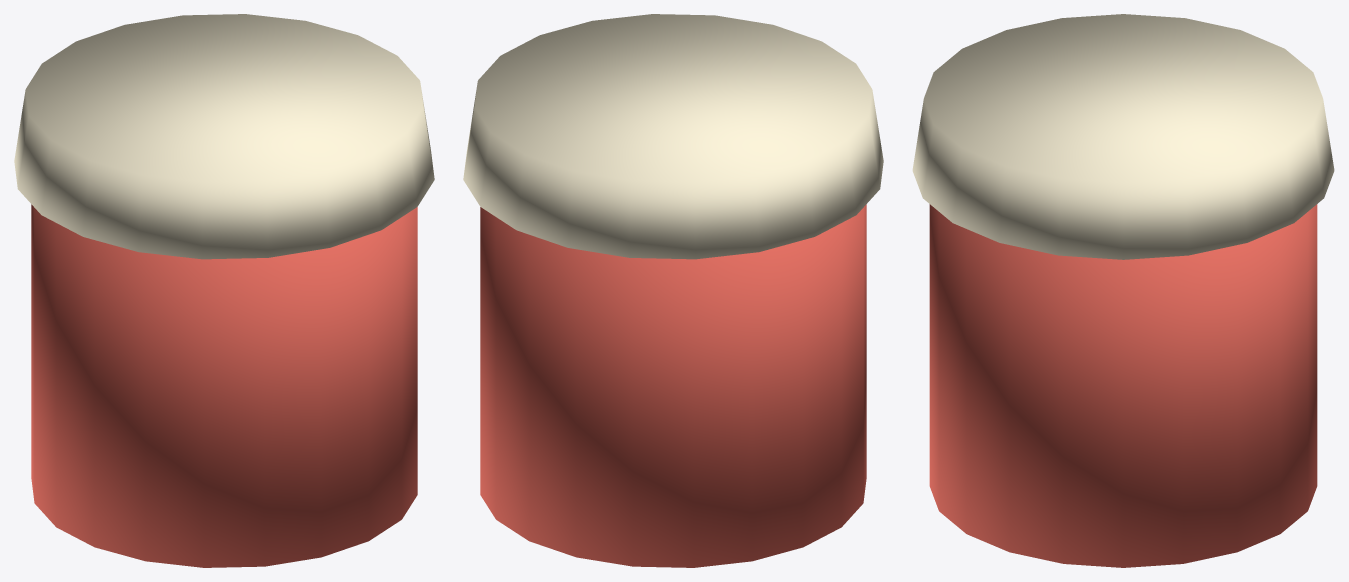
Rendered from prop_bumper_peg_red.glb.
The picture shows the model from 3 angles, left to right: view 1: azimuth 30°, elevation 25°; view 2: azimuth 150°, elevation 25°; view 3: azimuth 270°, elevation 25°; orthographic projection.
Visible parts, largest first — view 1: Mesh_Bumper_Peg.002; view 2: Mesh_Bumper_Peg.002; view 3: Mesh_Bumper_Peg.002.
Boxes of the visible parts, bbox=[...] form: Mesh_Bumper_Peg.002: bbox=[14, 14, 434, 567]; Mesh_Bumper_Peg.002: bbox=[463, 14, 883, 567]; Mesh_Bumper_Peg.002: bbox=[912, 14, 1334, 567].
Size of what is drawn, in the model's own units: 0.74 by 0.75 by 0.74.
